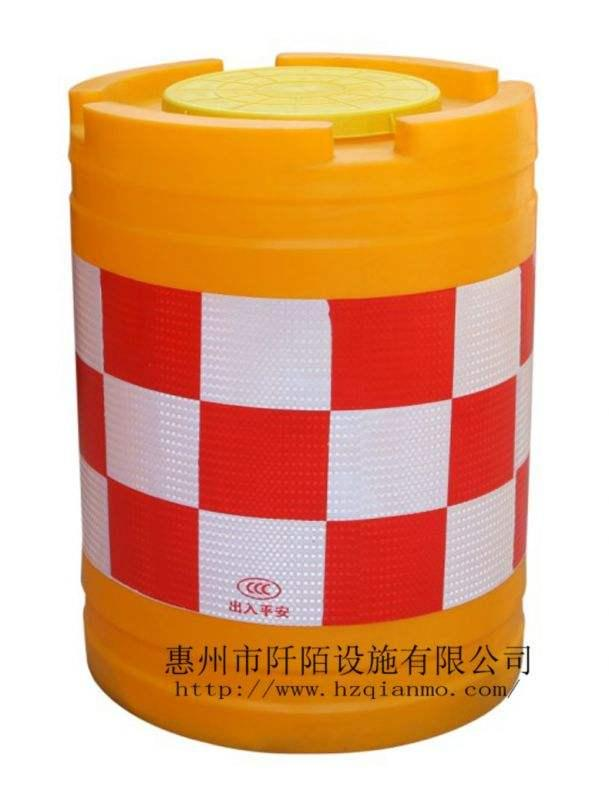sign: (38, 22, 551, 759)
